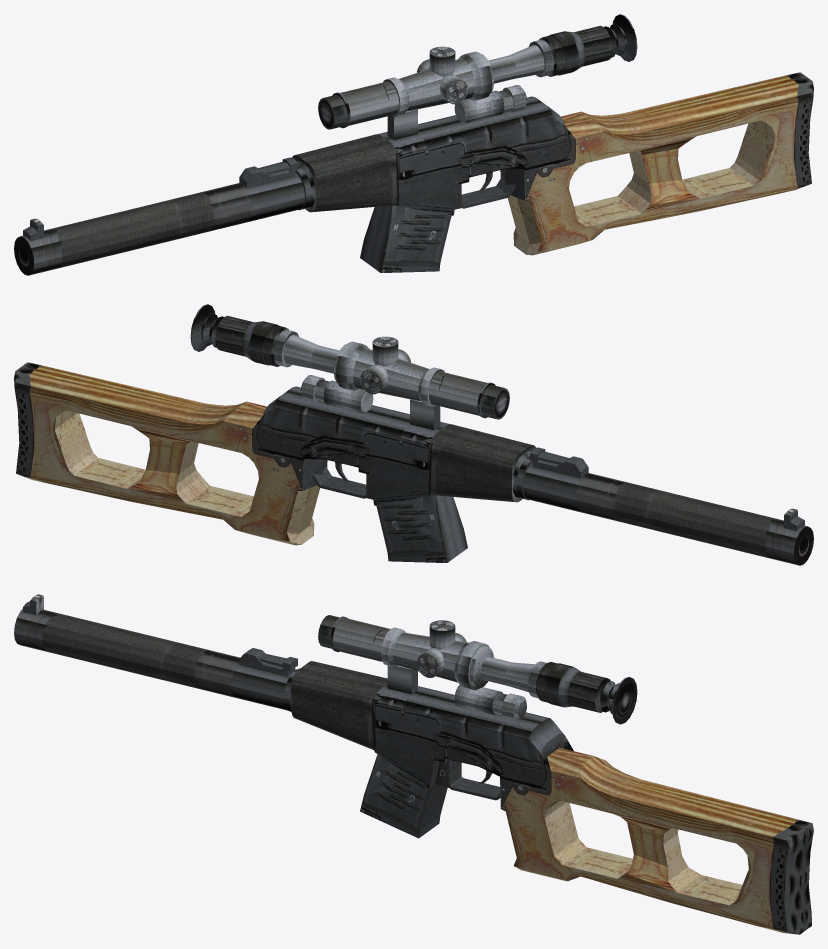
The model's file is w_vss.obj.
3 renders of one model, top to bottom at view 1: azimuth 30°, elevation 25°; view 2: azimuth 150°, elevation 25°; view 3: azimuth 330°, elevation 25°, orthographic.
Parts seen in each view (by area): view 1: Cube_Cube.001; view 2: Cube_Cube.001; view 3: Cube_Cube.001.
Part boxes in pixels (box(x1,y1,x2,y2)): Cube_Cube.001: box(14, 14, 813, 275); Cube_Cube.001: box(14, 304, 813, 565); Cube_Cube.001: box(14, 594, 813, 934).
Bounding box in the file's own units: 15.15 × 4.05 × 0.9726.
